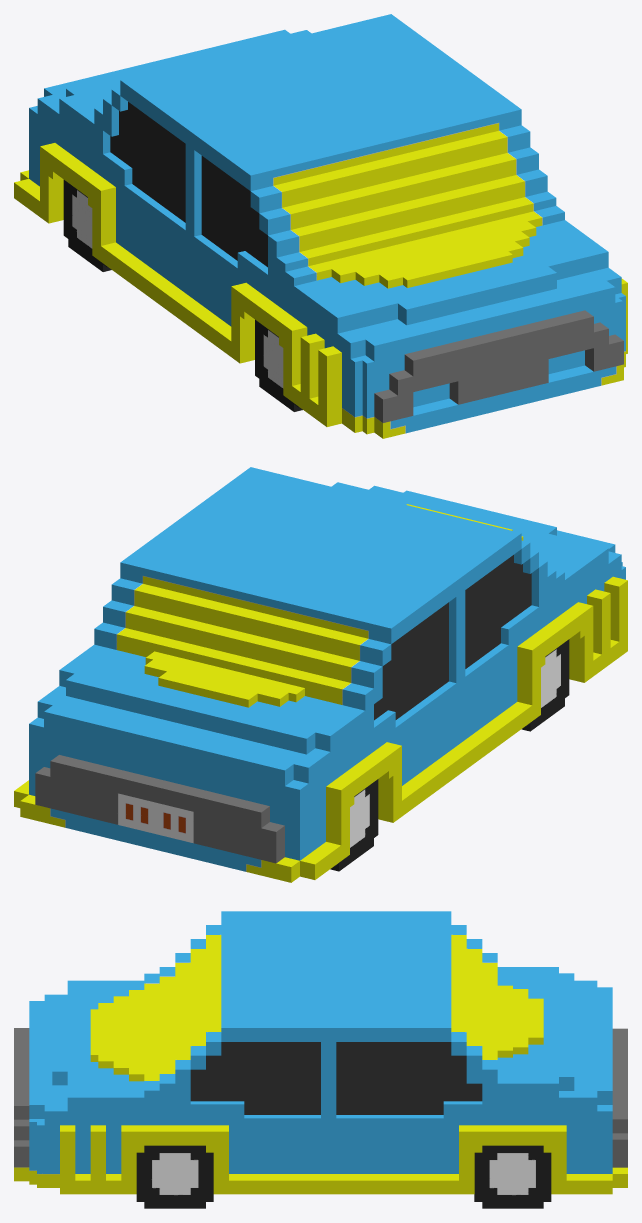
The model's file is Character_2.fbx.
3 renders of one model, top to bottom at view 1: azimuth 30°, elevation 25°; view 2: azimuth 150°, elevation 25°; view 3: azimuth 270°, elevation 25°, orthographic. The views are drawn at different scales.
Parts seen in each view (by area): view 1: Character_2; view 2: Character_2; view 3: Character_2.
Boxes of the visible parts, bbox=[...] form: Character_2: bbox=[14, 14, 627, 438]; Character_2: bbox=[14, 467, 627, 882]; Character_2: bbox=[14, 911, 627, 1208].
Bounding box in the file's own units: 40 × 26 × 80.
